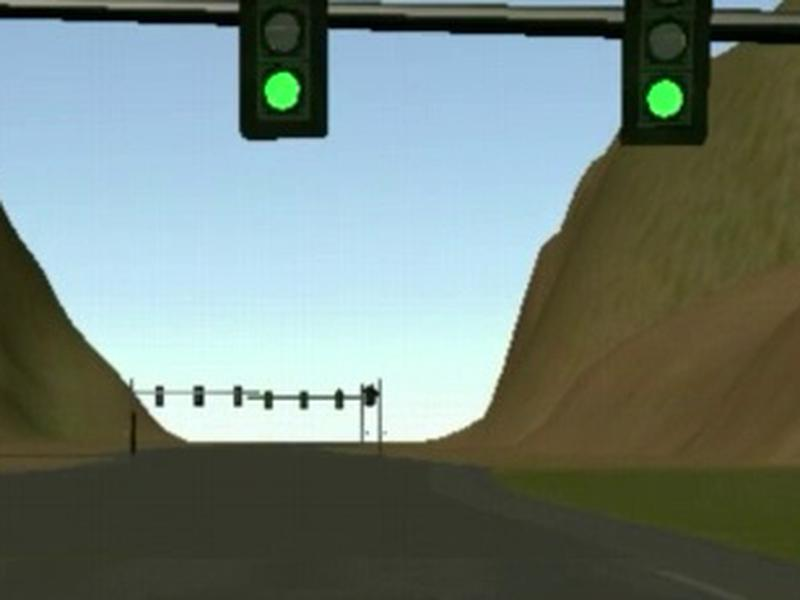Green: (621, 1, 712, 145), (238, 1, 328, 141)
